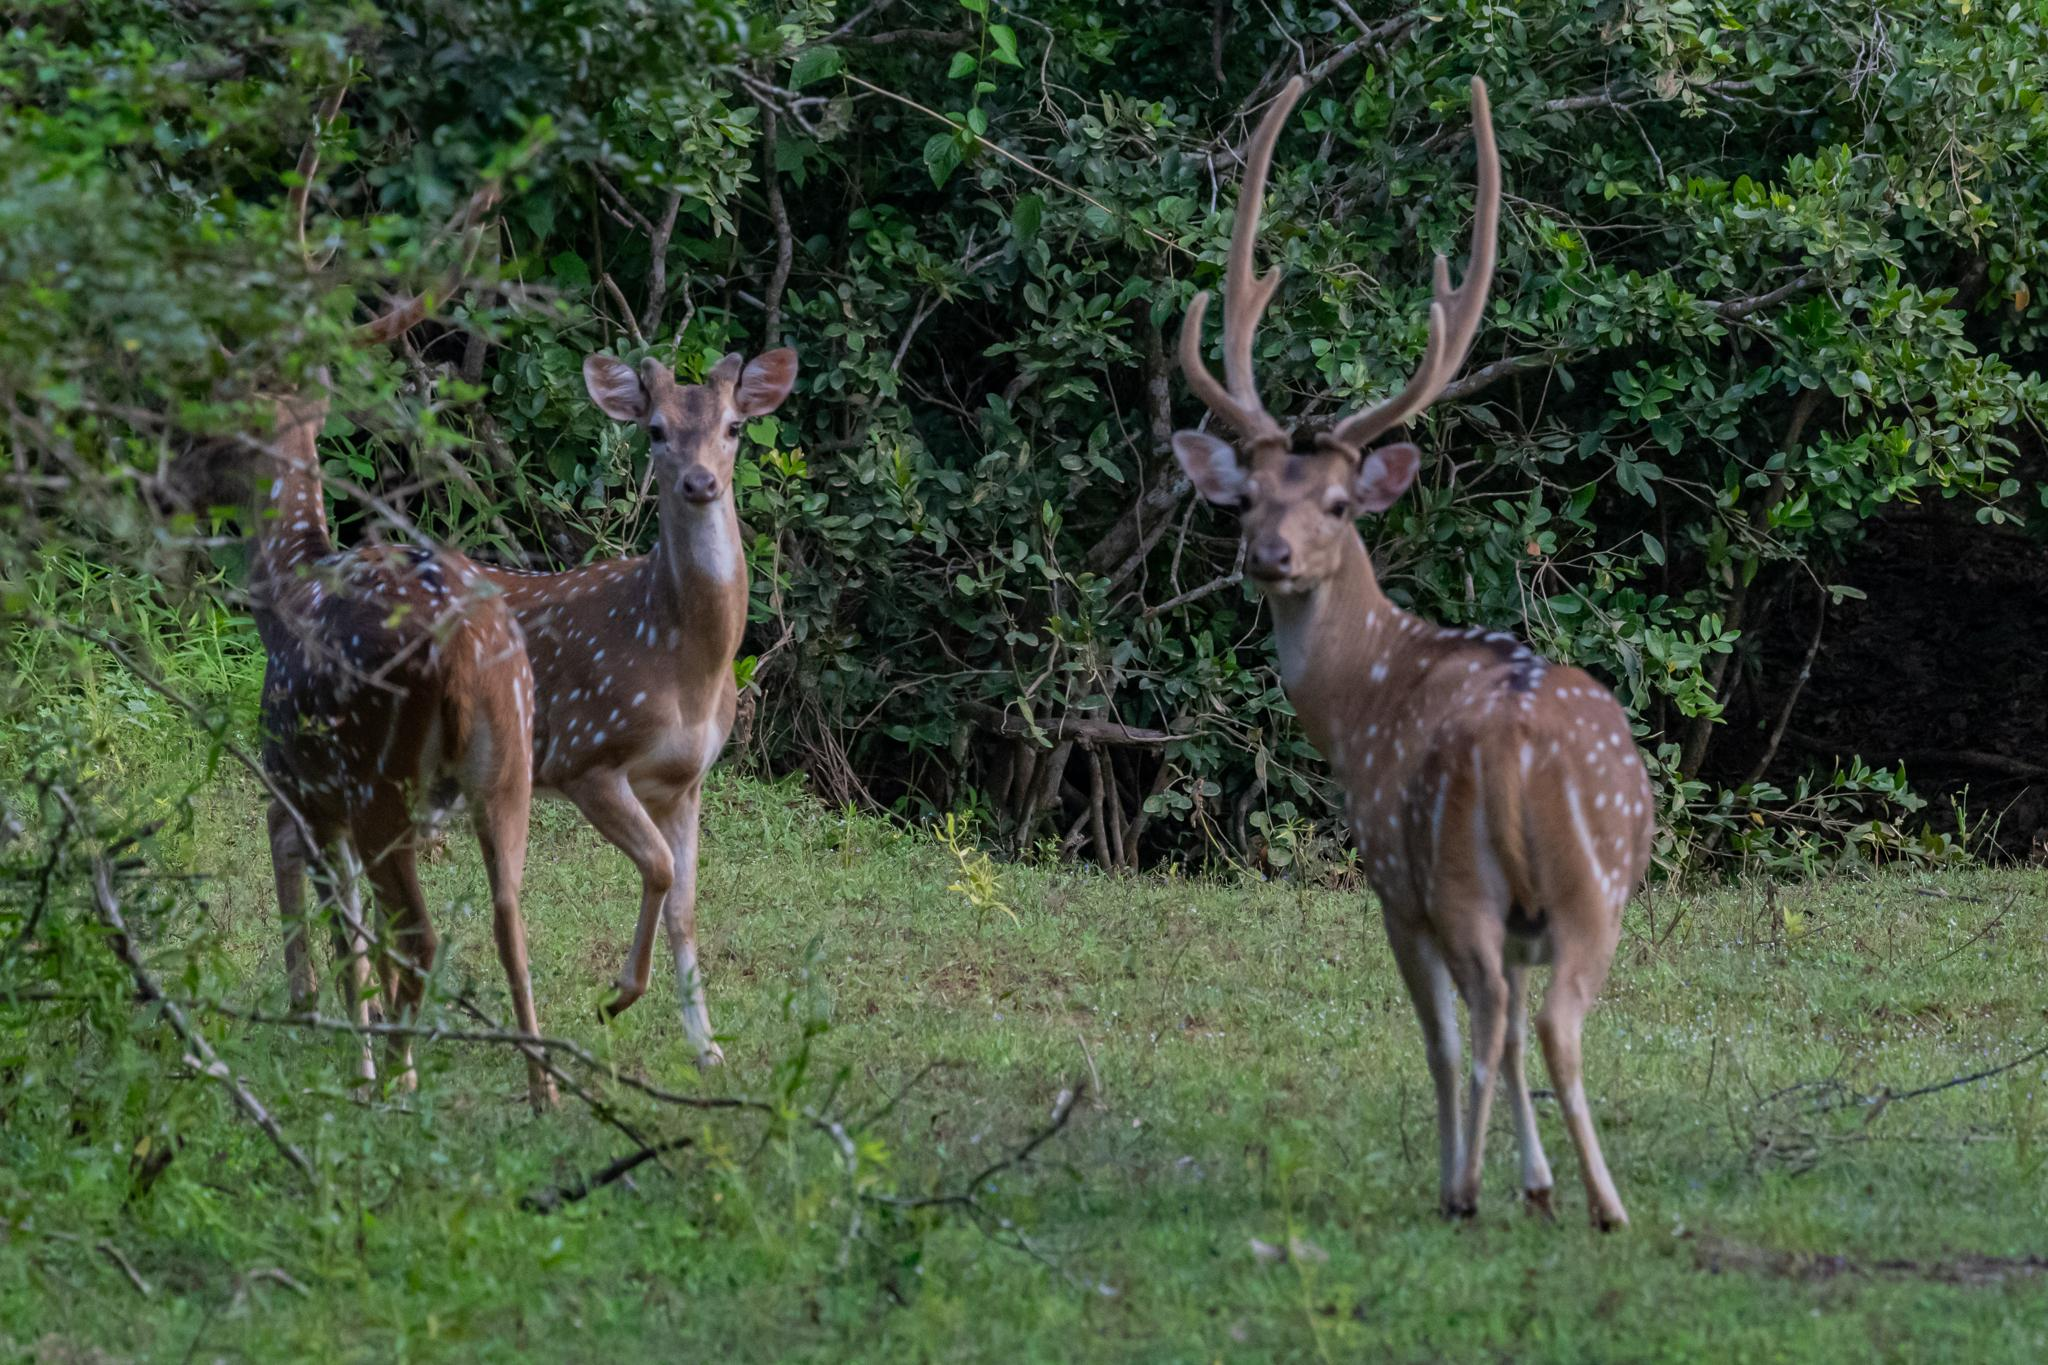Deer: (1172, 78, 1652, 1229), (490, 347, 796, 1065), (248, 401, 539, 1034)
